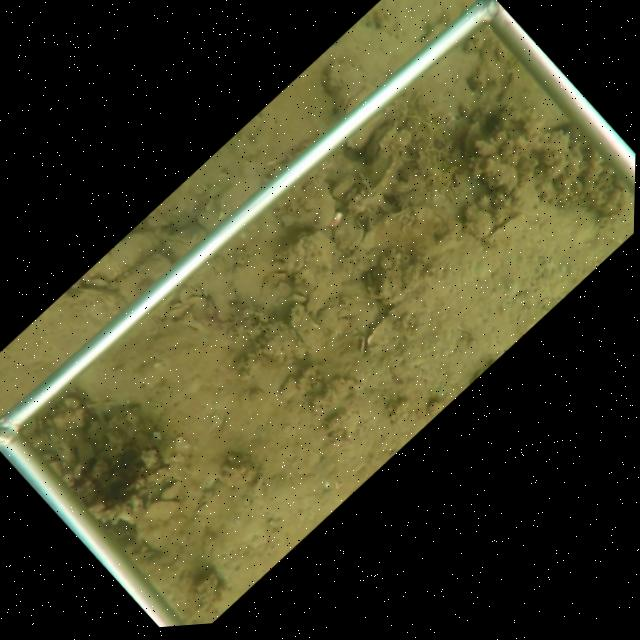Oyster-Closed: (330, 213, 367, 253), (330, 173, 356, 198)
Oyster-Indeterminate: (84, 227, 164, 287)
